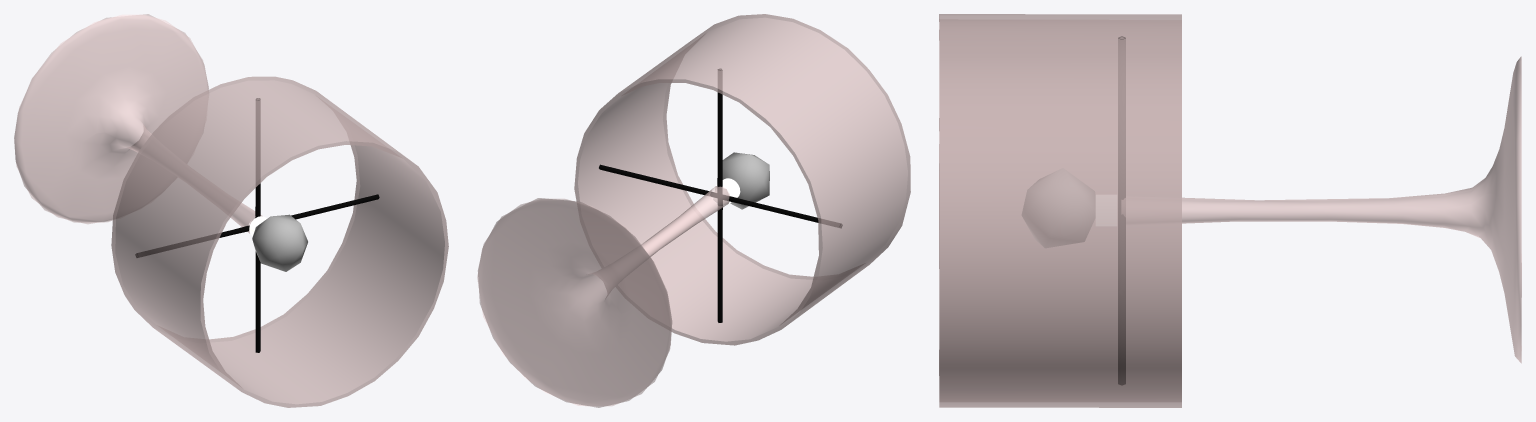
File: lamp desk piv cor.fbx
3 renders of one model, left to right at view 1: azimuth 30°, elevation 25°; view 2: azimuth 150°, elevation 25°; view 3: azimuth 270°, elevation 25°, orthographic. The views are drawn at different scales.
Parts seen in each view (by area): view 1: SAVANNA3D_Clear_Glass, Object_1, Object_3; view 2: SAVANNA3D_Clear_Glass, Object_1, Object_3; view 3: SAVANNA3D_Clear_Glass, Object_1, Object_3, Object_2.
Boxes of the visible parts, box(x1,y1,x2,y2) form: SAVANNA3D_Clear_Glass: box(111, 76, 448, 407); Object_1: box(14, 14, 262, 233); Object_3: box(135, 98, 379, 352); SAVANNA3D_Clear_Glass: box(574, 14, 910, 345); Object_1: box(477, 186, 729, 407); Object_3: box(599, 68, 842, 322); SAVANNA3D_Clear_Glass: box(939, 14, 1181, 407); Object_1: box(1126, 56, 1521, 363); Object_3: box(1118, 36, 1125, 384); Object_2: box(1096, 195, 1116, 225).
Bounding box in the file's own units: 35.92 × 35.96 × 53.17.
